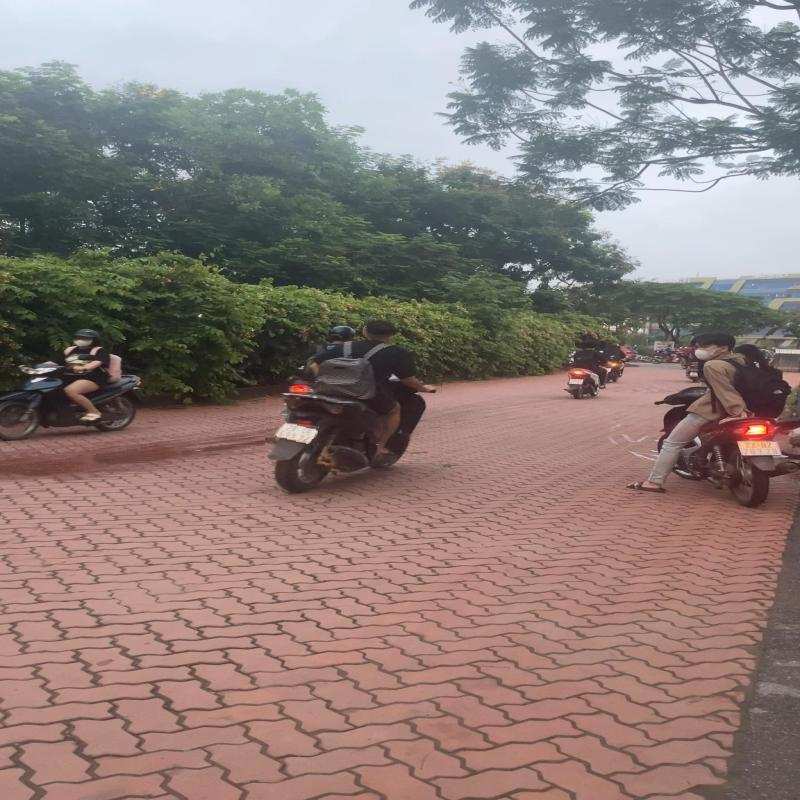licenseplate: (275, 421, 318, 444)
motorcyclist: (266, 318, 442, 493)
nohelmet: (363, 317, 399, 342)
